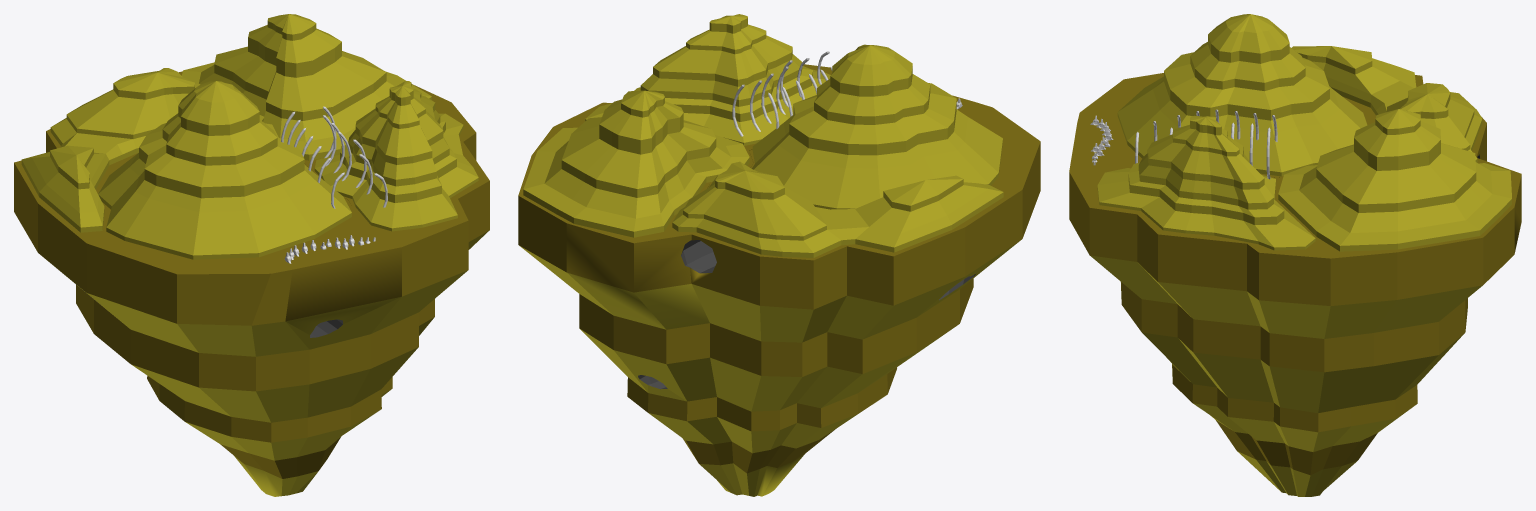
File: Tyfus_groot_eiland.fbx
3 views of the same model, side by side, from view 1: azimuth 30°, elevation 25°; view 2: azimuth 150°, elevation 25°; view 3: azimuth 270°, elevation 25° (orthographic). The views are drawn at different scales.
Visible parts, largest first — view 1: wkankerieland.001, Cylinder, Cylinder.001; view 2: wkankerieland.001, Cylinder; view 3: wkankerieland.001, Cylinder.
Boxes of the visible parts, box(x1,y1,x2,y2) form: wkankerieland.001: box(14, 14, 489, 496); Cylinder: box(281, 106, 387, 208); Cylinder.001: box(284, 235, 375, 263); wkankerieland.001: box(518, 14, 1040, 496); Cylinder: box(732, 51, 832, 136); wkankerieland.001: box(1069, 14, 1521, 496); Cylinder: box(1135, 109, 1277, 179).
Size of the model in its own units: 106736 by 109184 by 104069.
